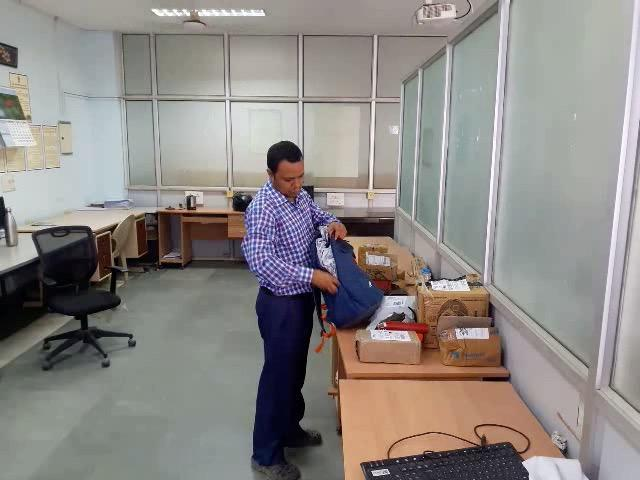shoplifting: (228, 211, 391, 348)
